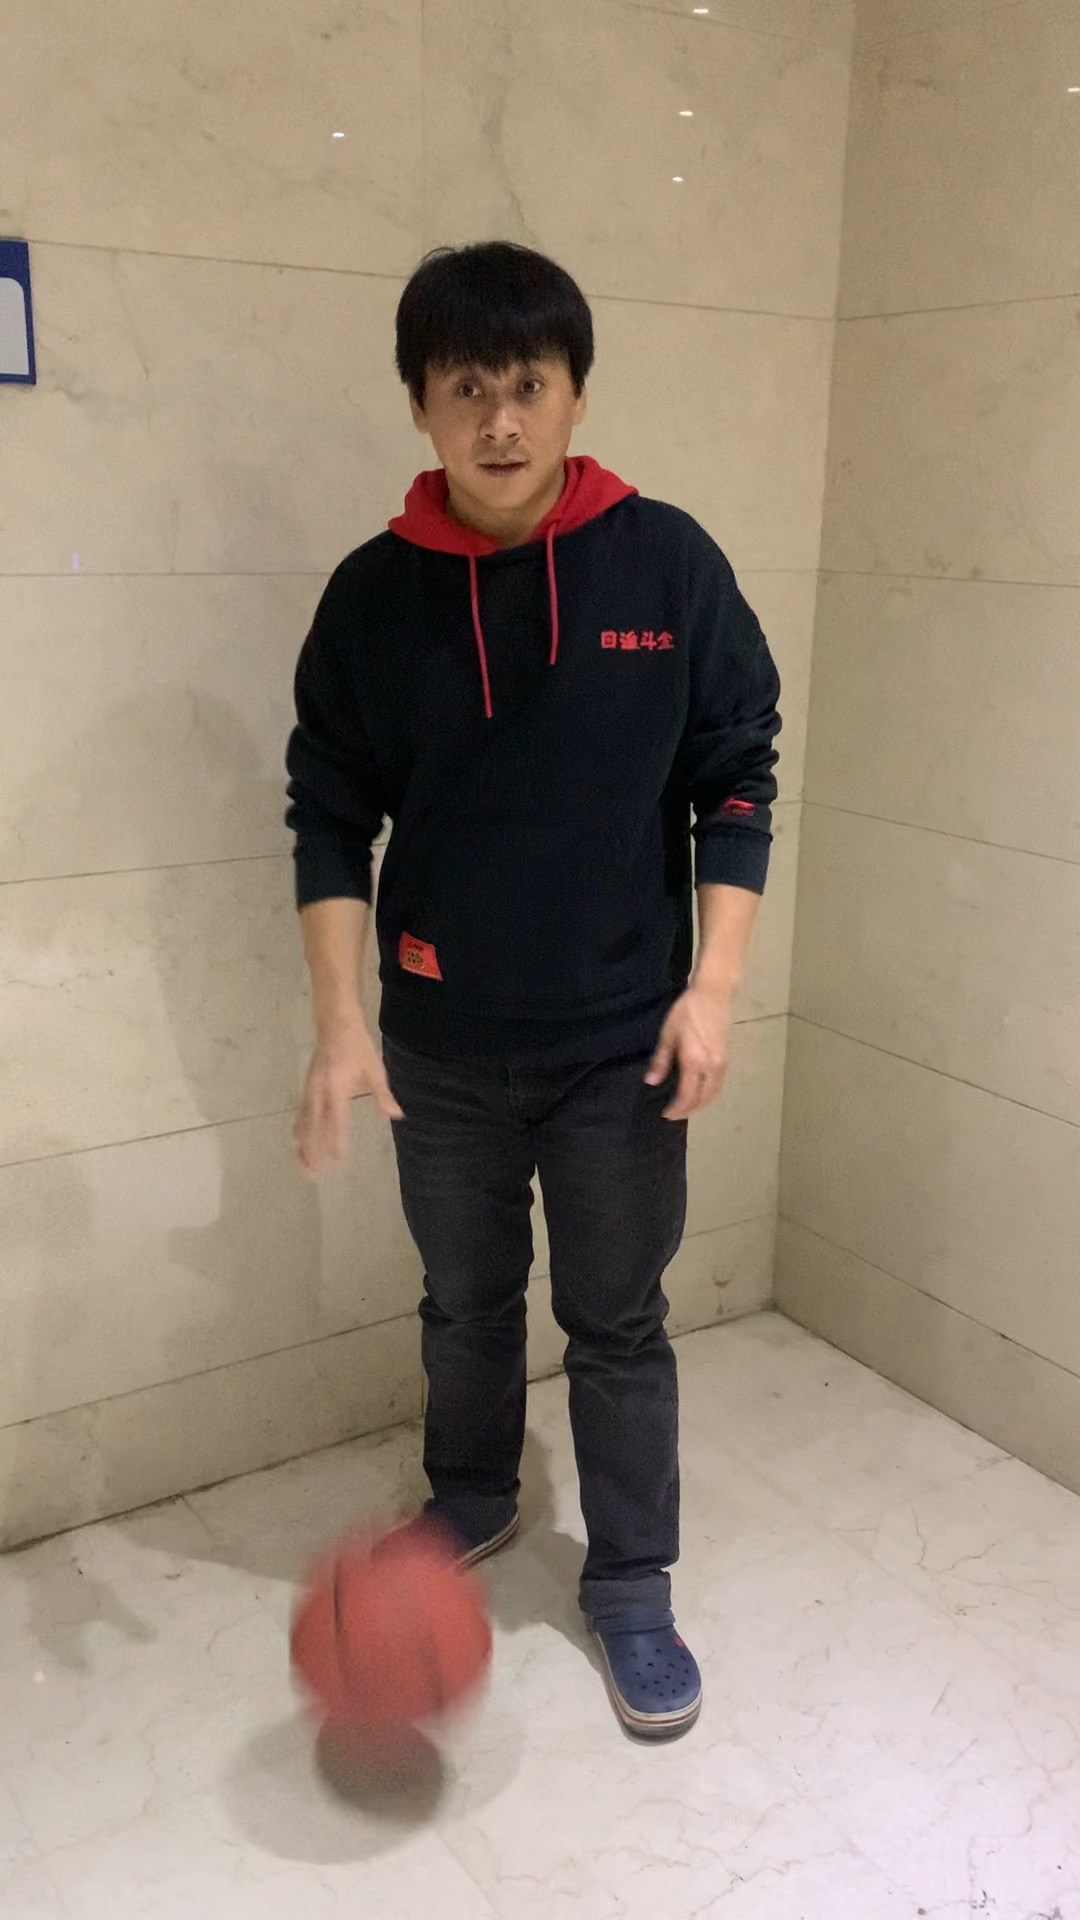ball: (284, 1535, 489, 1721)
